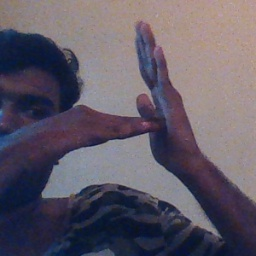Z: (84, 17, 197, 176)
